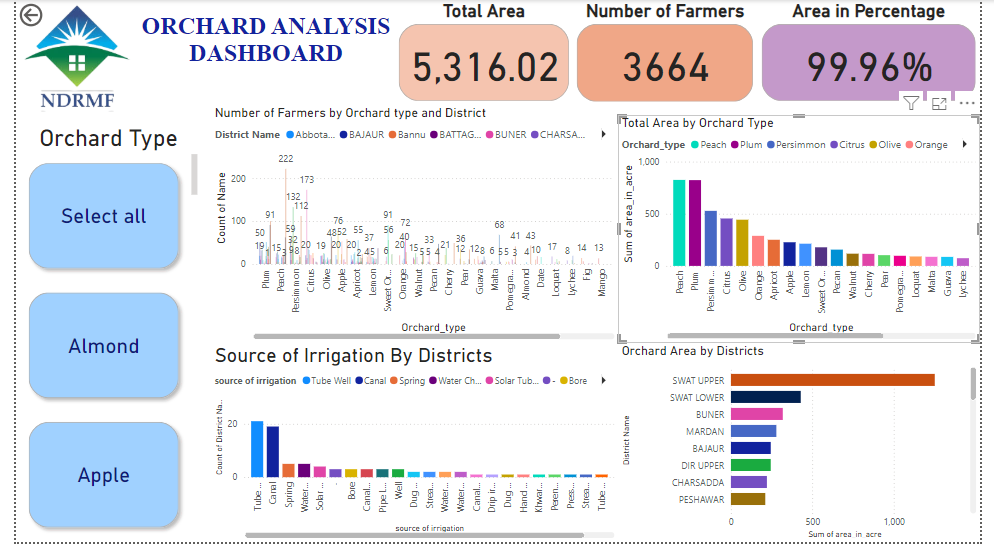

This screenshot's page, from the dashboard's own definition file:
{"tool":"powerbi","page":{"name":"Orchard Overview","canvas":[1280,720],"ordinal":0},"visuals":[{"type":"barChart","title":"Orchard Area by Districts","fields":{"Category":["Working Sheet.District Name"],"Y":["Working Sheet.area_in_acre"],"Series":["Working Sheet.District Name"]},"box":[799.7,455.6,480.9,264.4],"z":0},{"type":"columnChart","title":"Total Area by Orchard Type","fields":{"Category":["Working Sheet.Orchard_type"],"Y":["Working Sheet.area_in_acre"],"Series":["Working Sheet.Orchard_type"]},"box":[799.7,152.8,480.3,302.8],"z":1000},{"type":"cardVisual","title":"Total Area","fields":{"Data":["Working Sheet.area_in_acre"]},"box":[503.7,0,236.7,139],"z":2000},{"type":"cardVisual","title":"Number of Farmers","fields":{"Data":["Working Sheet.CNIC"]},"box":[740.5,0,245,140.4],"z":3000},{"type":"clusteredColumnChart","title":"Number of Farmers by Orchard type and District","fields":{"Y":["Working Sheet.Name"],"Category":["Working Sheet.Orchard_type"],"Series":["Working Sheet.District Name"]},"box":[258.8,139,540.9,316.6],"z":5000},{"type":"image","box":[0,0,161,152.8],"z":6000},{"type":"advancedSlicerVisual","title":"Orchard Type","fields":{"Values":["Working Sheet.Orchard_type"]},"box":[0,165.2,246.4,554.7],"z":7000},{"type":"textbox","box":[160.7,10.6,342.7,128.9],"z":8000},{"type":"actionButton","box":[0,0,100,40],"z":10000},{"type":"cardVisual","title":"Area in Percentage","fields":{"Data":["Sheet4.Area%"]},"box":[985.5,0,294.5,139],"z":10001},{"type":"columnChart","title":"Source of Irrigation By Districts","fields":{"Category":["Working Sheet.source of irrigation"],"Y":["Working Sheet.District Name"],"Series":["Working Sheet.source of irrigation"]},"box":[258.8,455.6,540.9,264.3],"z":10002}]}

Visuals, with their boxes in screenshot pixels (x1, y1, x2, y2), scaled from the page's 1280x720 canvas onto the 994x549 screenshot:
"Orchard Area by Districts" barChart: <box>621,347,993,548</box>
"Total Area by Orchard Type" columnChart: <box>621,117,993,347</box>
"Total Area" cardVisual: <box>391,0,575,106</box>
"Number of Farmers" cardVisual: <box>575,0,765,107</box>
"Number of Farmers by Orchard type and District" clusteredColumnChart: <box>201,106,621,347</box>
image: <box>0,0,125,117</box>
"Orchard Type" advancedSlicerVisual: <box>0,126,191,548</box>
textbox: <box>125,8,391,106</box>
actionButton: <box>0,0,78,30</box>
"Area in Percentage" cardVisual: <box>765,0,993,106</box>
"Source of Irrigation By Districts" columnChart: <box>201,347,621,548</box>
